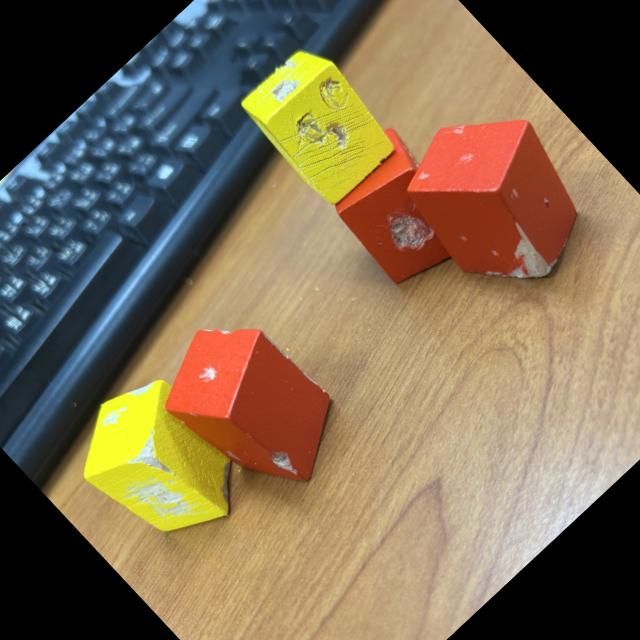broken: (381, 81, 616, 317), (140, 293, 362, 518), (55, 358, 265, 570), (313, 124, 486, 298), (234, 36, 406, 211)
